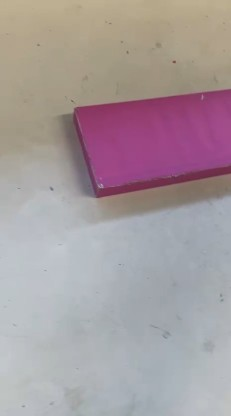pink: (55, 86, 226, 198)
